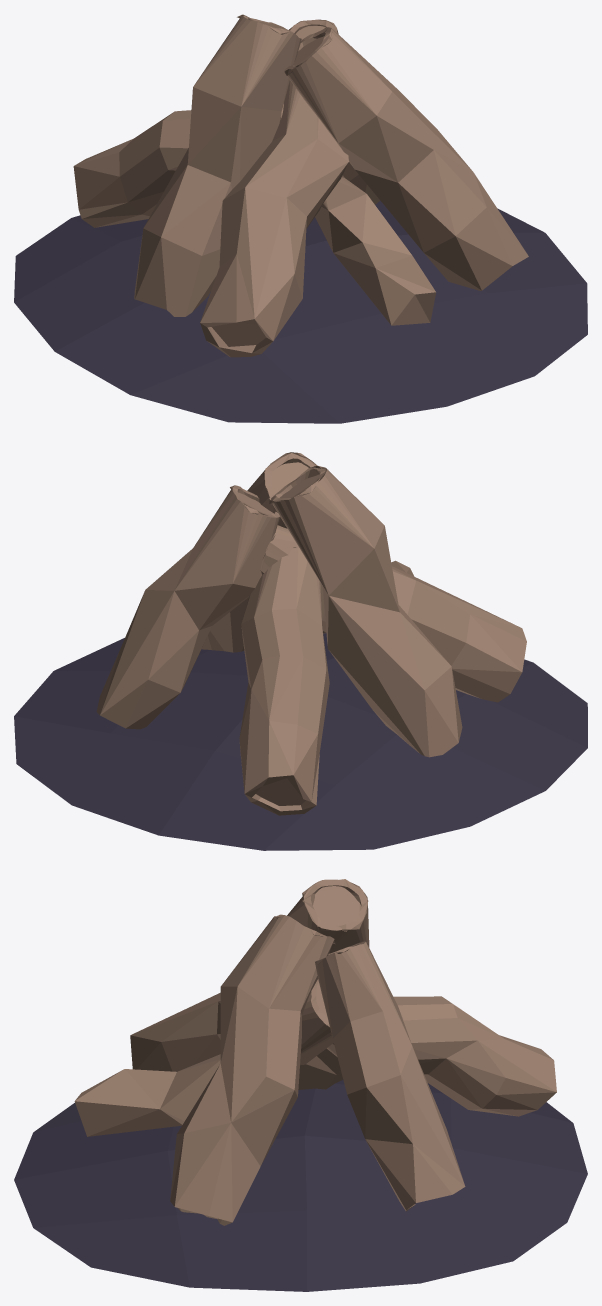
Rendered from CampfireModel.fbx.
3 renders of one model, top to bottom at view 1: azimuth 30°, elevation 25°; view 2: azimuth 150°, elevation 25°; view 3: azimuth 270°, elevation 25°, orthographic.
Parts seen in each view (by area): view 1: Plane, Cylinder, Cylinder.001, Cylinder.003, Cylinder.005, Cylinder.004, Cylinder.002; view 2: Plane, Cylinder.001, Cylinder.004, Cylinder.002, Cylinder.003, Cylinder; view 3: Plane, Cylinder, Cylinder.002, Cylinder.004, Cylinder.005, Cylinder.003, Cylinder.001.
Boxes of the visible parts, x1,y1,x2,y2 form: Plane: (14,200,587,423); Cylinder: (284,27,528,290); Cylinder.001: (134,14,301,316); Cylinder.003: (200,80,348,357); Cylinder.005: (315,175,436,325); Cylinder.004: (73,104,283,227); Cylinder.002: (289,19,379,204); Plane: (14,633,587,850); Cylinder.001: (269,465,462,757); Cylinder.004: (239,547,329,815); Cylinder.002: (96,485,279,729); Cylinder.003: (260,525,526,702); Cylinder: (202,452,317,652); Plane: (14,1080,587,1291); Cylinder: (170,914,335,1225); Cylinder.002: (315,941,465,1211); Cylinder.004: (327,996,556,1116); Cylinder.005: (74,1054,220,1136); Cylinder.003: (130,979,333,1071); Cylinder.001: (287,879,369,1089).
Bounding box in the file's own units: 129 × 70.73 × 130.
